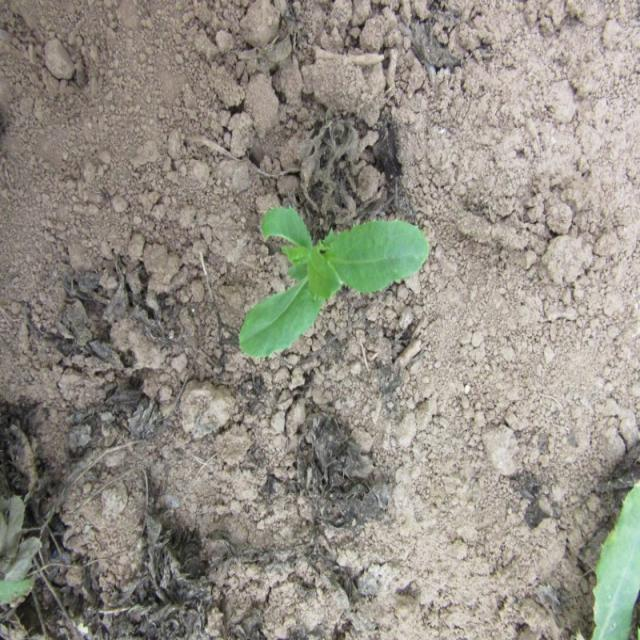cs: (239, 198, 433, 364)
